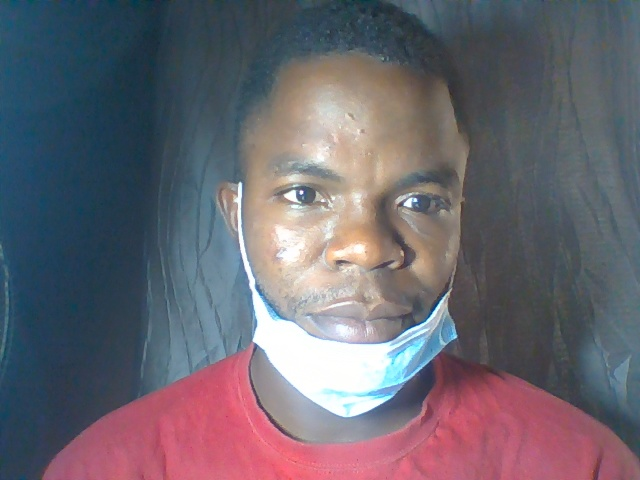MaskOff: (213, 7, 497, 424)
